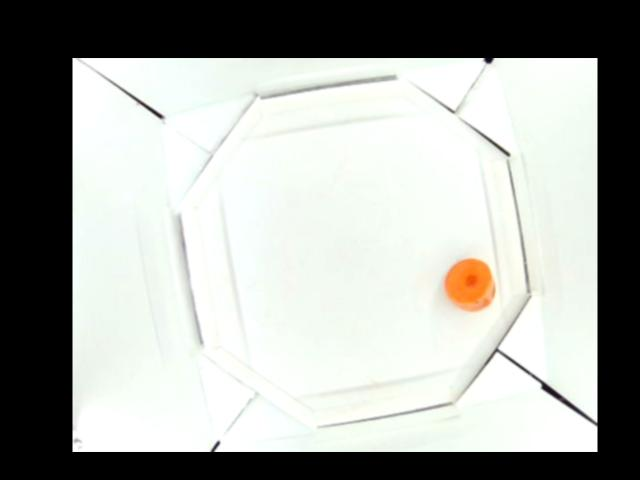Carrot: (448, 259, 495, 310)
